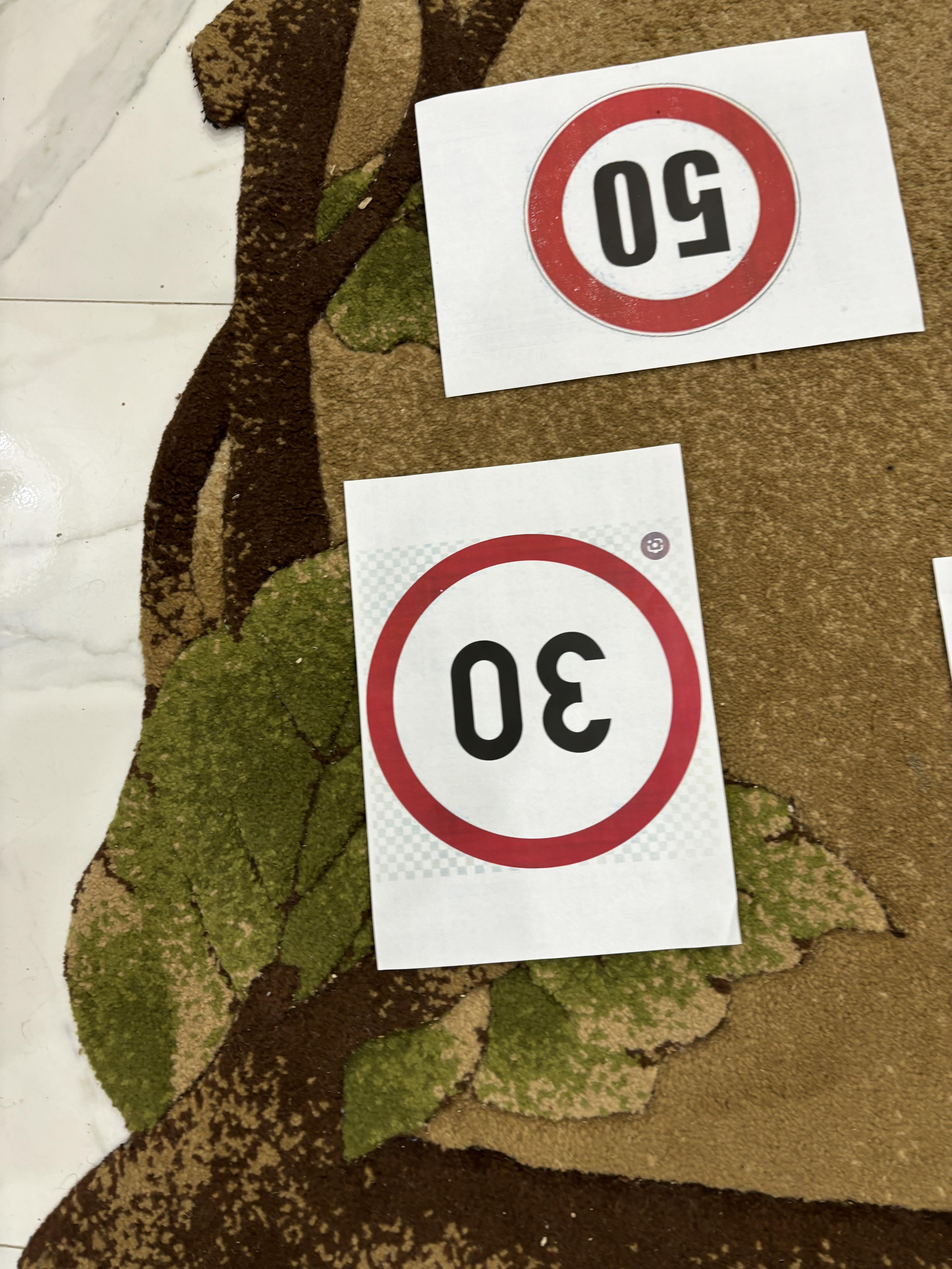30-speed: (367, 534, 700, 865)
50-Speed: (514, 87, 807, 333)
